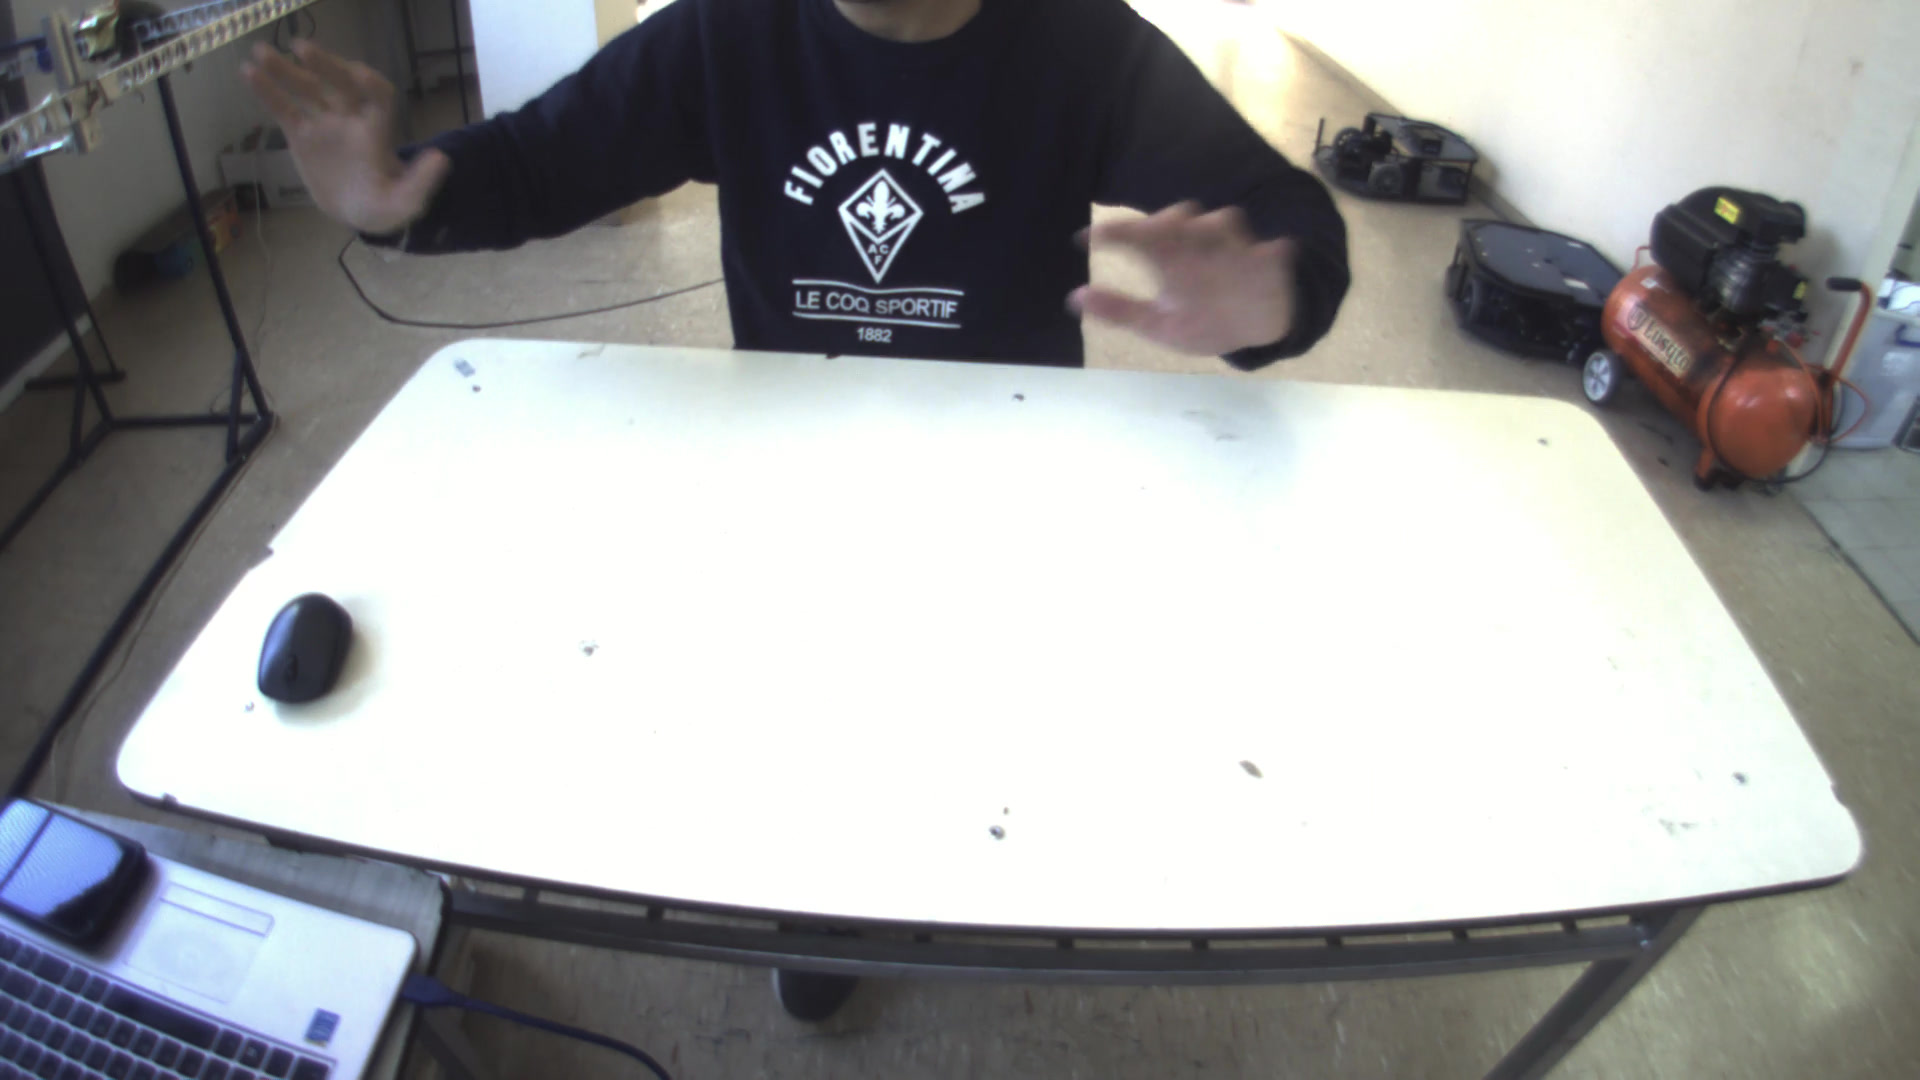hand: (1067, 177, 1317, 365), (224, 30, 448, 240)
